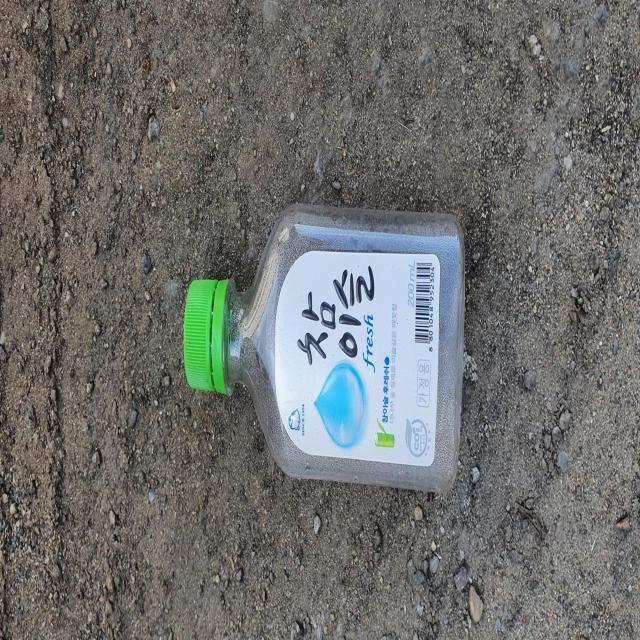plastic: (183, 204, 465, 492)
